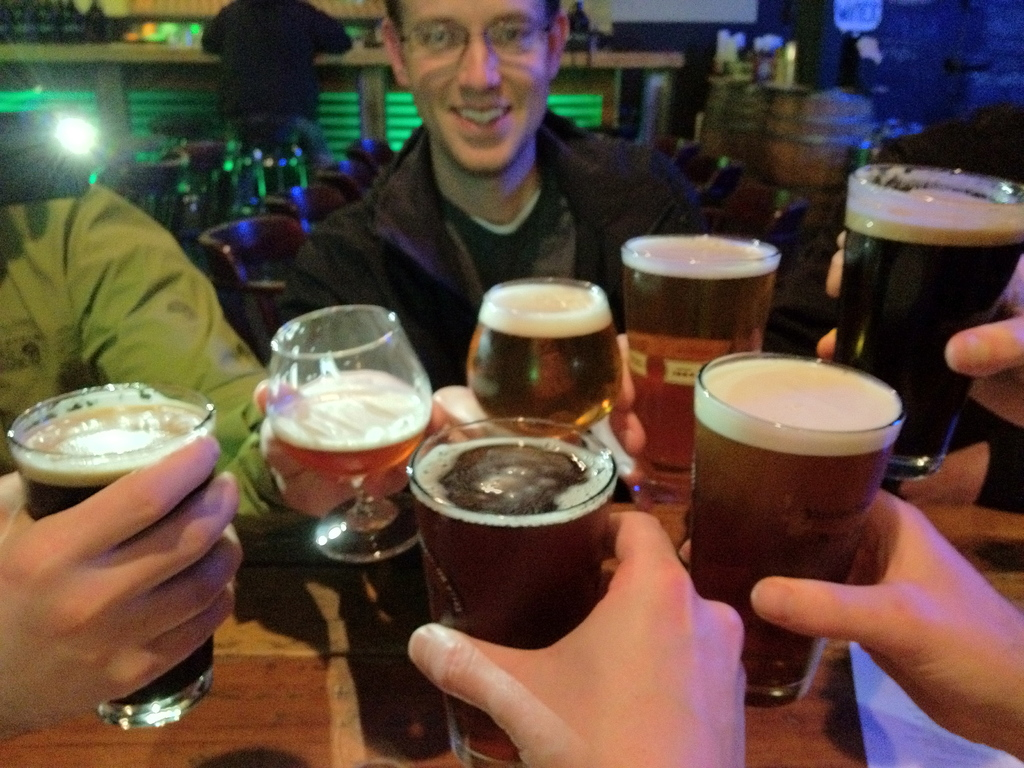Beer: (15, 387, 213, 721), (418, 427, 610, 767), (691, 351, 871, 697), (839, 164, 992, 465), (618, 232, 778, 497), (252, 362, 434, 505), (465, 282, 613, 417)
